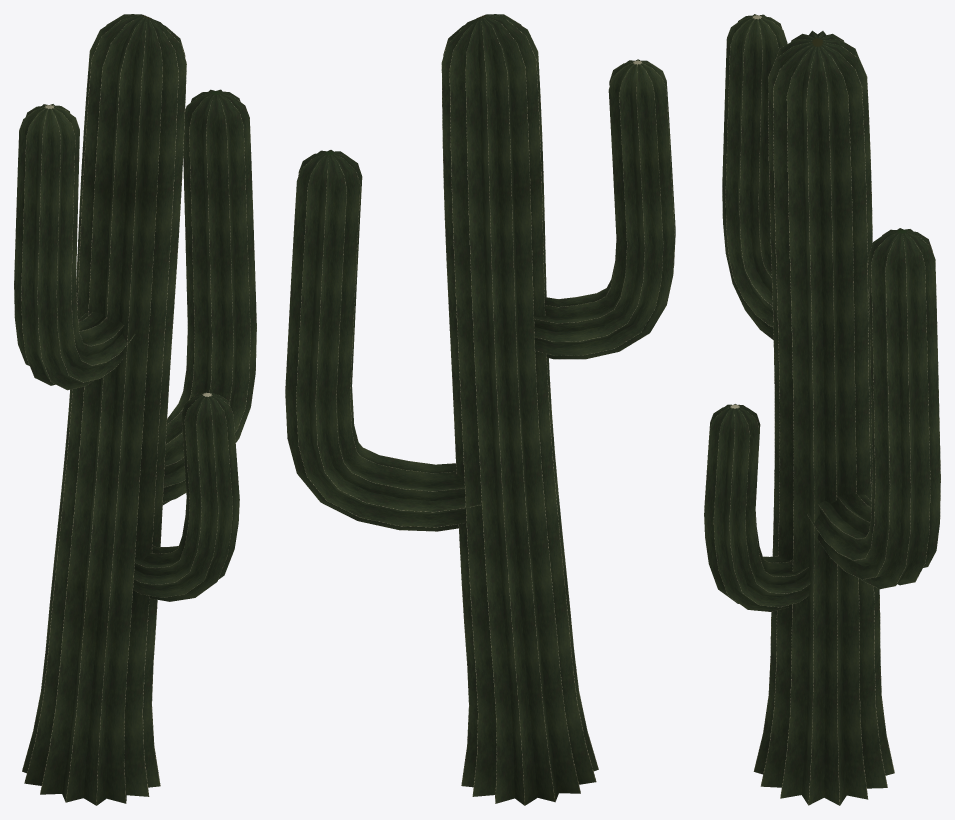
Rendered from cactus_saguaro.glb.
3 views of the same model, side by side, from view 1: azimuth 30°, elevation 25°; view 2: azimuth 150°, elevation 25°; view 3: azimuth 270°, elevation 25° (orthographic).
Visible parts, largest first — view 1: cactus_saguaro; view 2: cactus_saguaro; view 3: cactus_saguaro.
Boxes of the visible parts, left/top/right/bottom form: cactus_saguaro: left=14, top=14, right=256, bottom=805; cactus_saguaro: left=285, top=14, right=675, bottom=805; cactus_saguaro: left=704, top=14, right=940, bottom=805.
Bounding box in the file's own units: 2.28 × 5.34 × 1.5.
Materials: 1 (1 with a texture image).
